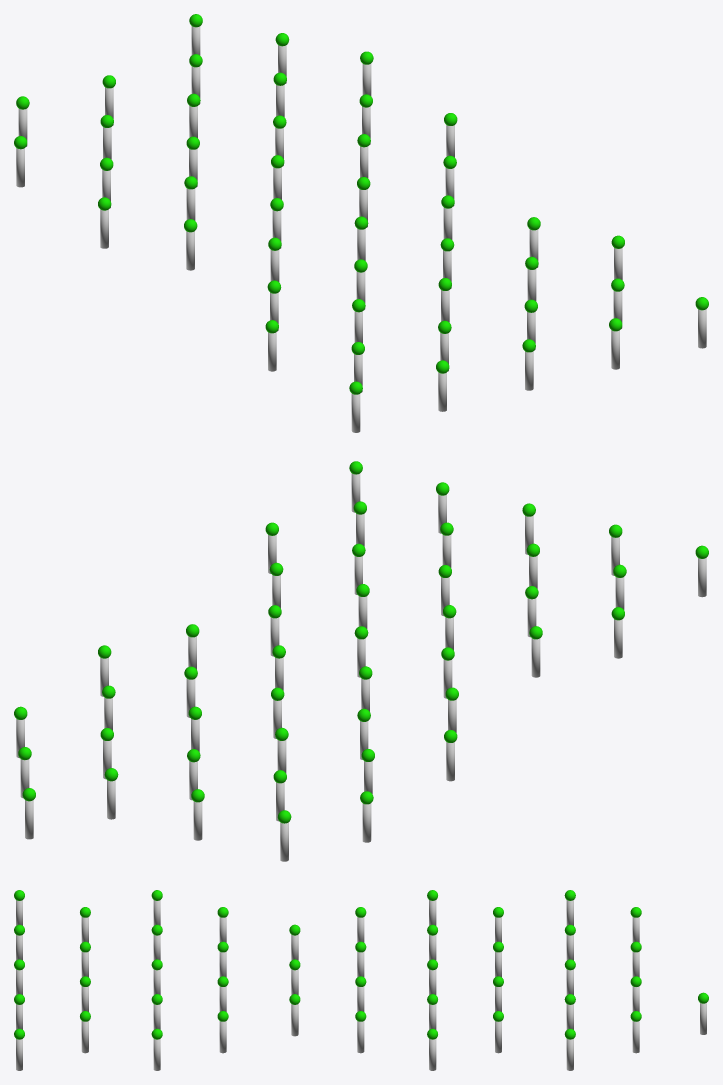
The model's file is normal_pins.fbx.
The picture shows the model from 3 angles, top to bottom: view 1: azimuth 30°, elevation 25°; view 2: azimuth 150°, elevation 25°; view 3: azimuth 270°, elevation 25°; orthographic projection. The views are drawn at different scales.
Parts seen in each view (by area): view 1: normal_pin.002; view 2: normal_pin.002; view 3: normal_pin.002.
Boxes of the visible parts, bbox=[...] form: normal_pin.002: bbox=[14, 14, 708, 432]; normal_pin.002: bbox=[14, 461, 708, 861]; normal_pin.002: bbox=[14, 890, 708, 1070].
Size of the model in its own units: 121 by 15.84 by 248.
